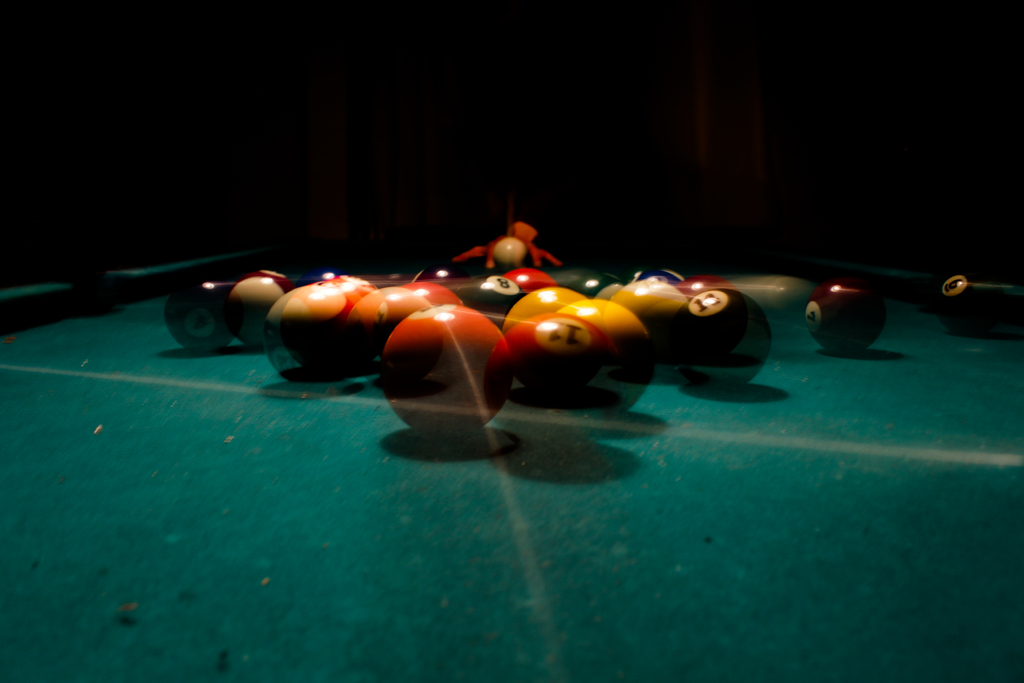Ball: (167, 236, 777, 450), (802, 281, 884, 359), (938, 272, 978, 331)
